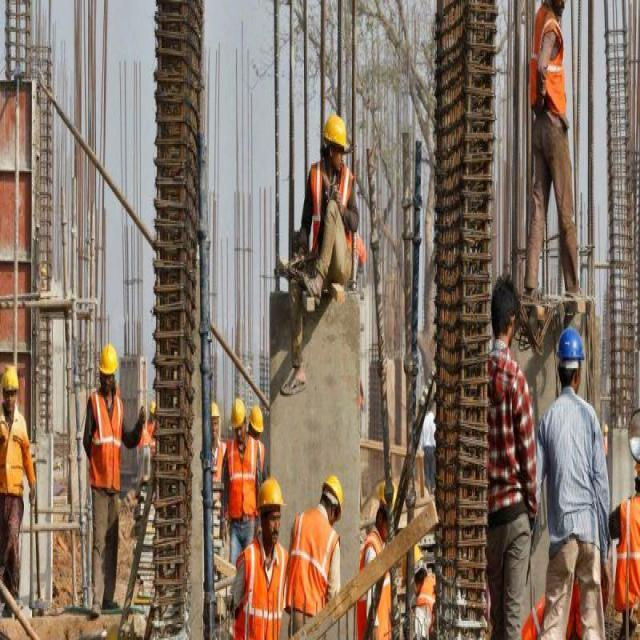Reflective-Jacket: (308, 154, 361, 287), (233, 539, 290, 640), (289, 506, 339, 619), (353, 528, 396, 640), (532, 8, 568, 125), (86, 390, 126, 494), (225, 435, 262, 523), (0, 411, 30, 504), (618, 488, 640, 613), (410, 579, 440, 640)
Safety-Helmet: (256, 472, 286, 517), (321, 108, 349, 154), (555, 325, 586, 363), (322, 469, 346, 509), (98, 338, 120, 379), (230, 392, 248, 432), (1, 362, 22, 395), (248, 402, 266, 438), (412, 544, 426, 574), (208, 398, 222, 422), (149, 398, 158, 421)
